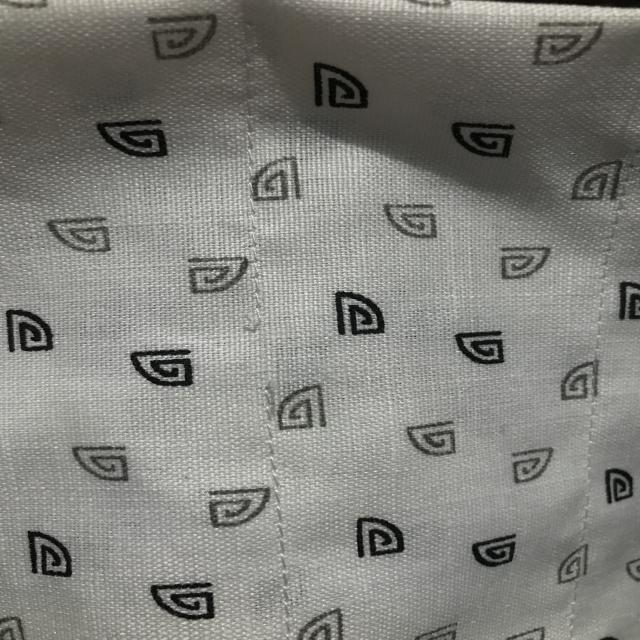broken: (230, 300, 295, 400)
good: (256, 433, 297, 482)
